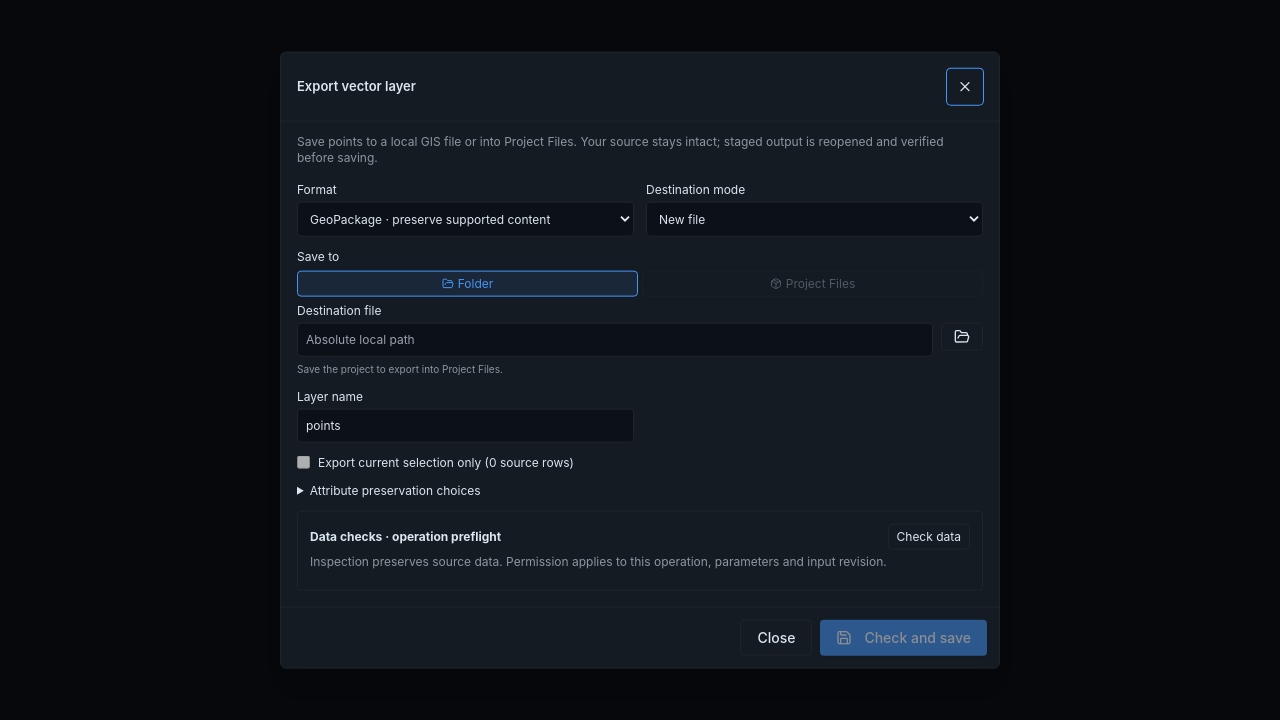
Test case: a blocked file profile disables saving without manufacturing a warning approval
Step 1. Type "/tmp/points.gpkg" into the field labelled "Destination file" → (615, 340), box [297,323,933,357]
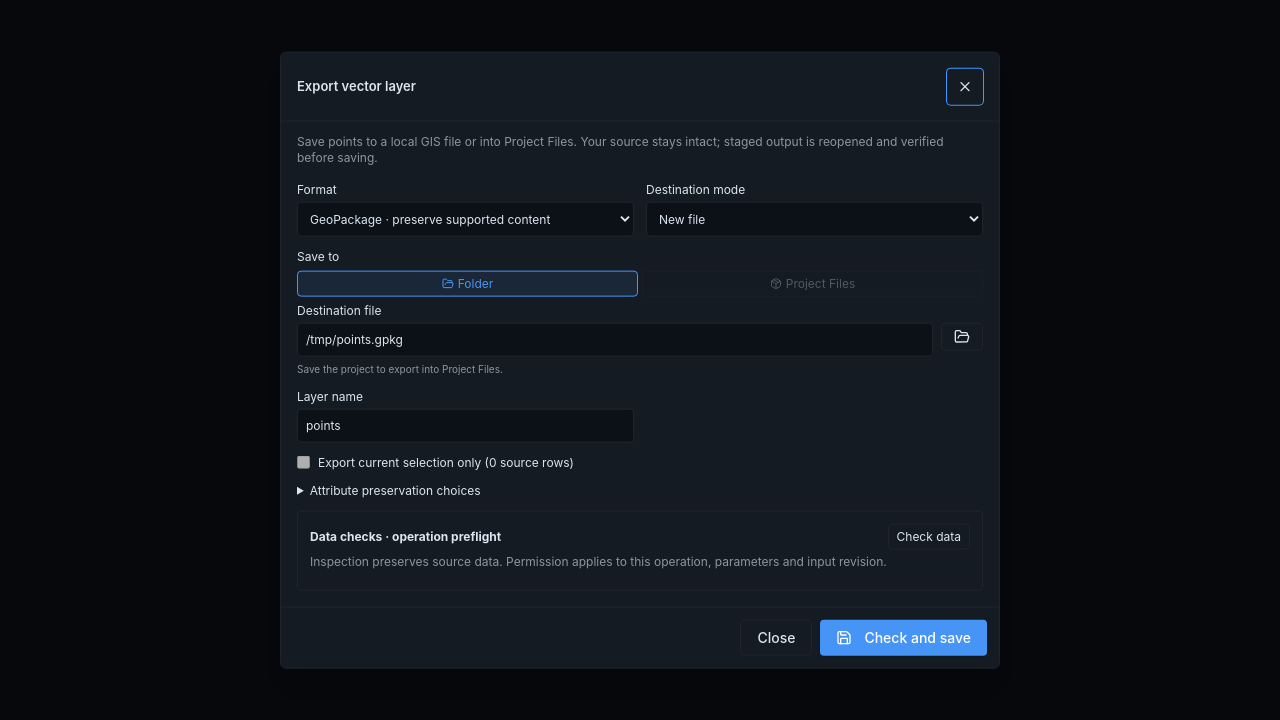
Step 2. Click the button "Check data" → (929, 536), box [888,523,970,549]
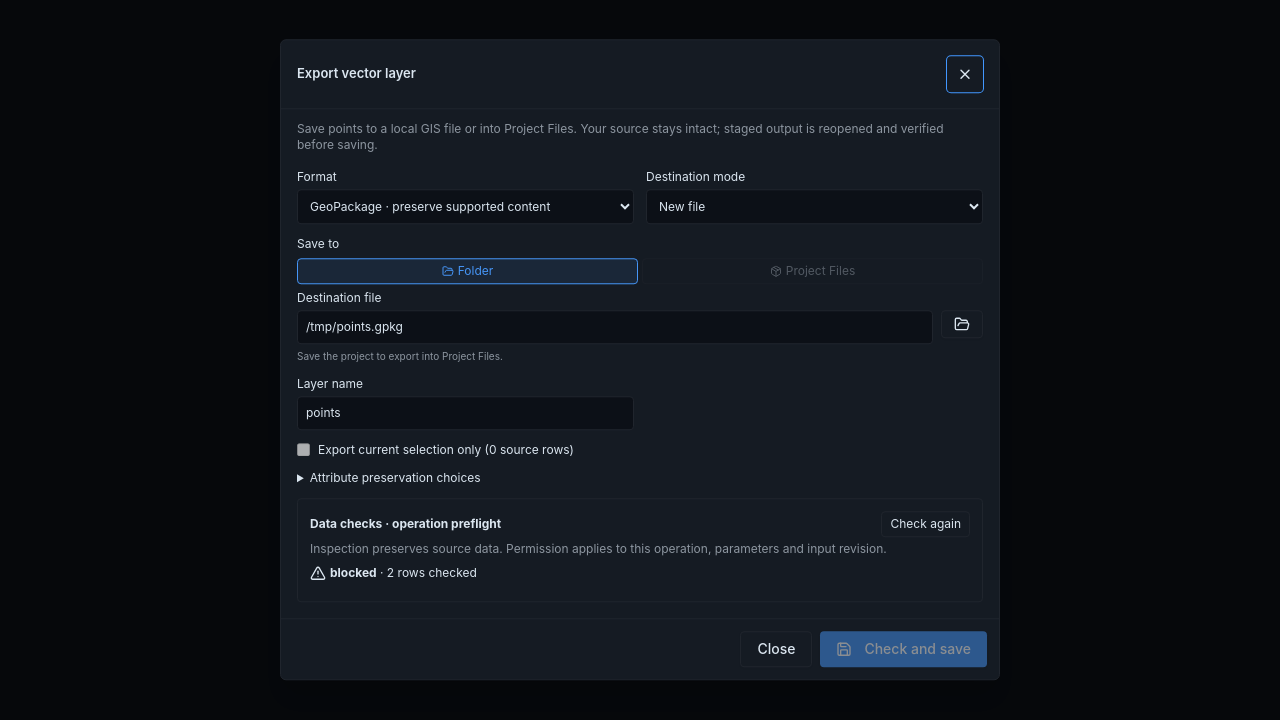
Expected: the button "Check and save" is disabled, [820,632,987,668]
Expected: the text "blocked" is shown, [330,565,377,580]
